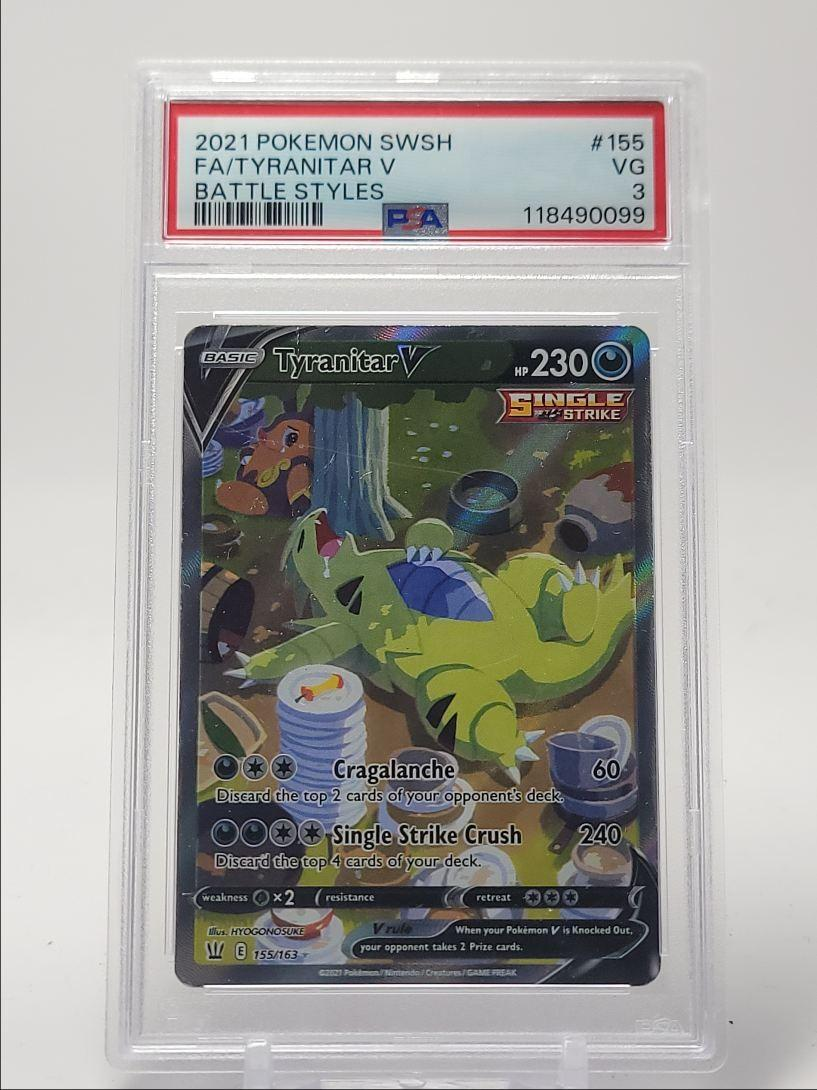card-2UtV: (174, 324, 662, 988)
